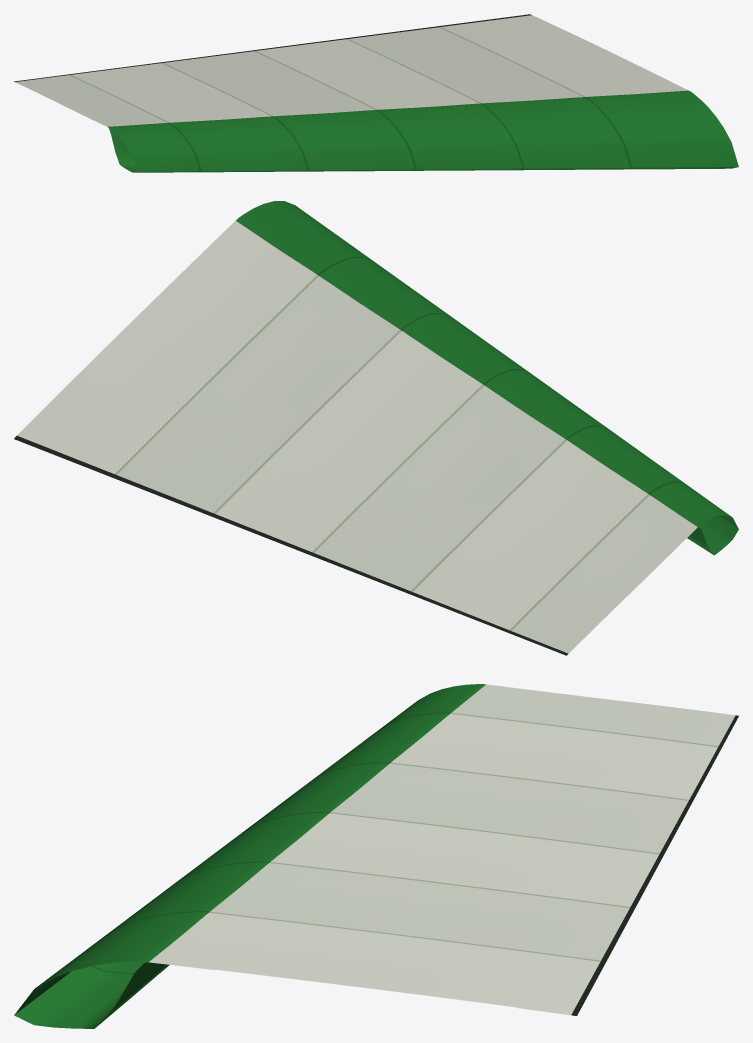
File: wing_root_right_sail.dae
3 renders of one model, top to bottom at view 1: azimuth 30°, elevation 25°; view 2: azimuth 150°, elevation 25°; view 3: azimuth 270°, elevation 25°, orthographic. The views are drawn at different scales.
Visible parts, largest first — view 1: wing; view 2: wing; view 3: wing.
Part boxes in pixels (box(x1,y1,x2,y2)): wing: box(14, 14, 738, 172); wing: box(14, 201, 738, 655); wing: box(14, 684, 738, 1028).
Size of the model in its own units: 3.07 by 3.14 by 0.3235.
